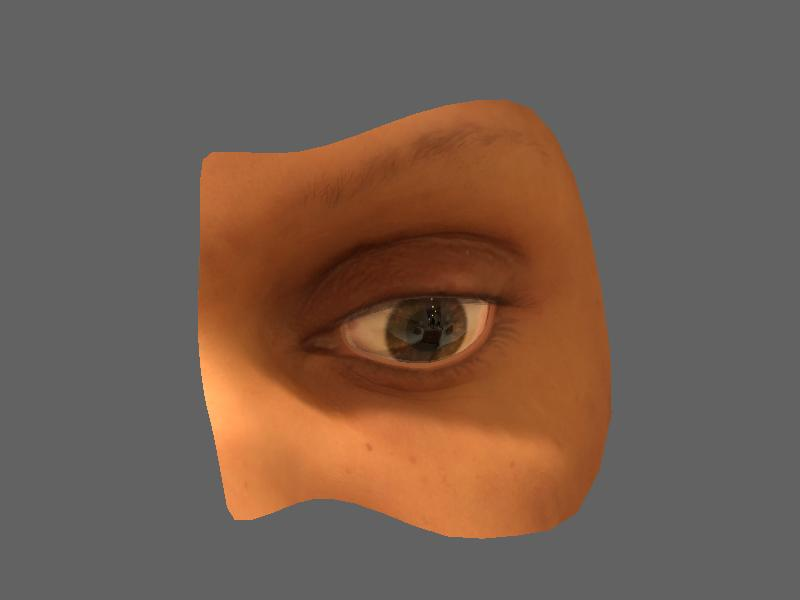iris: (387, 298, 469, 363)
